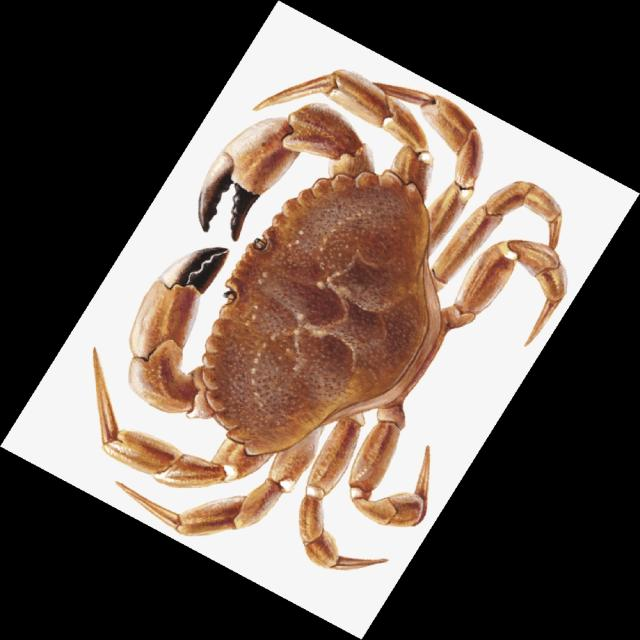Native Jonah crab: (94, 70, 566, 570)
